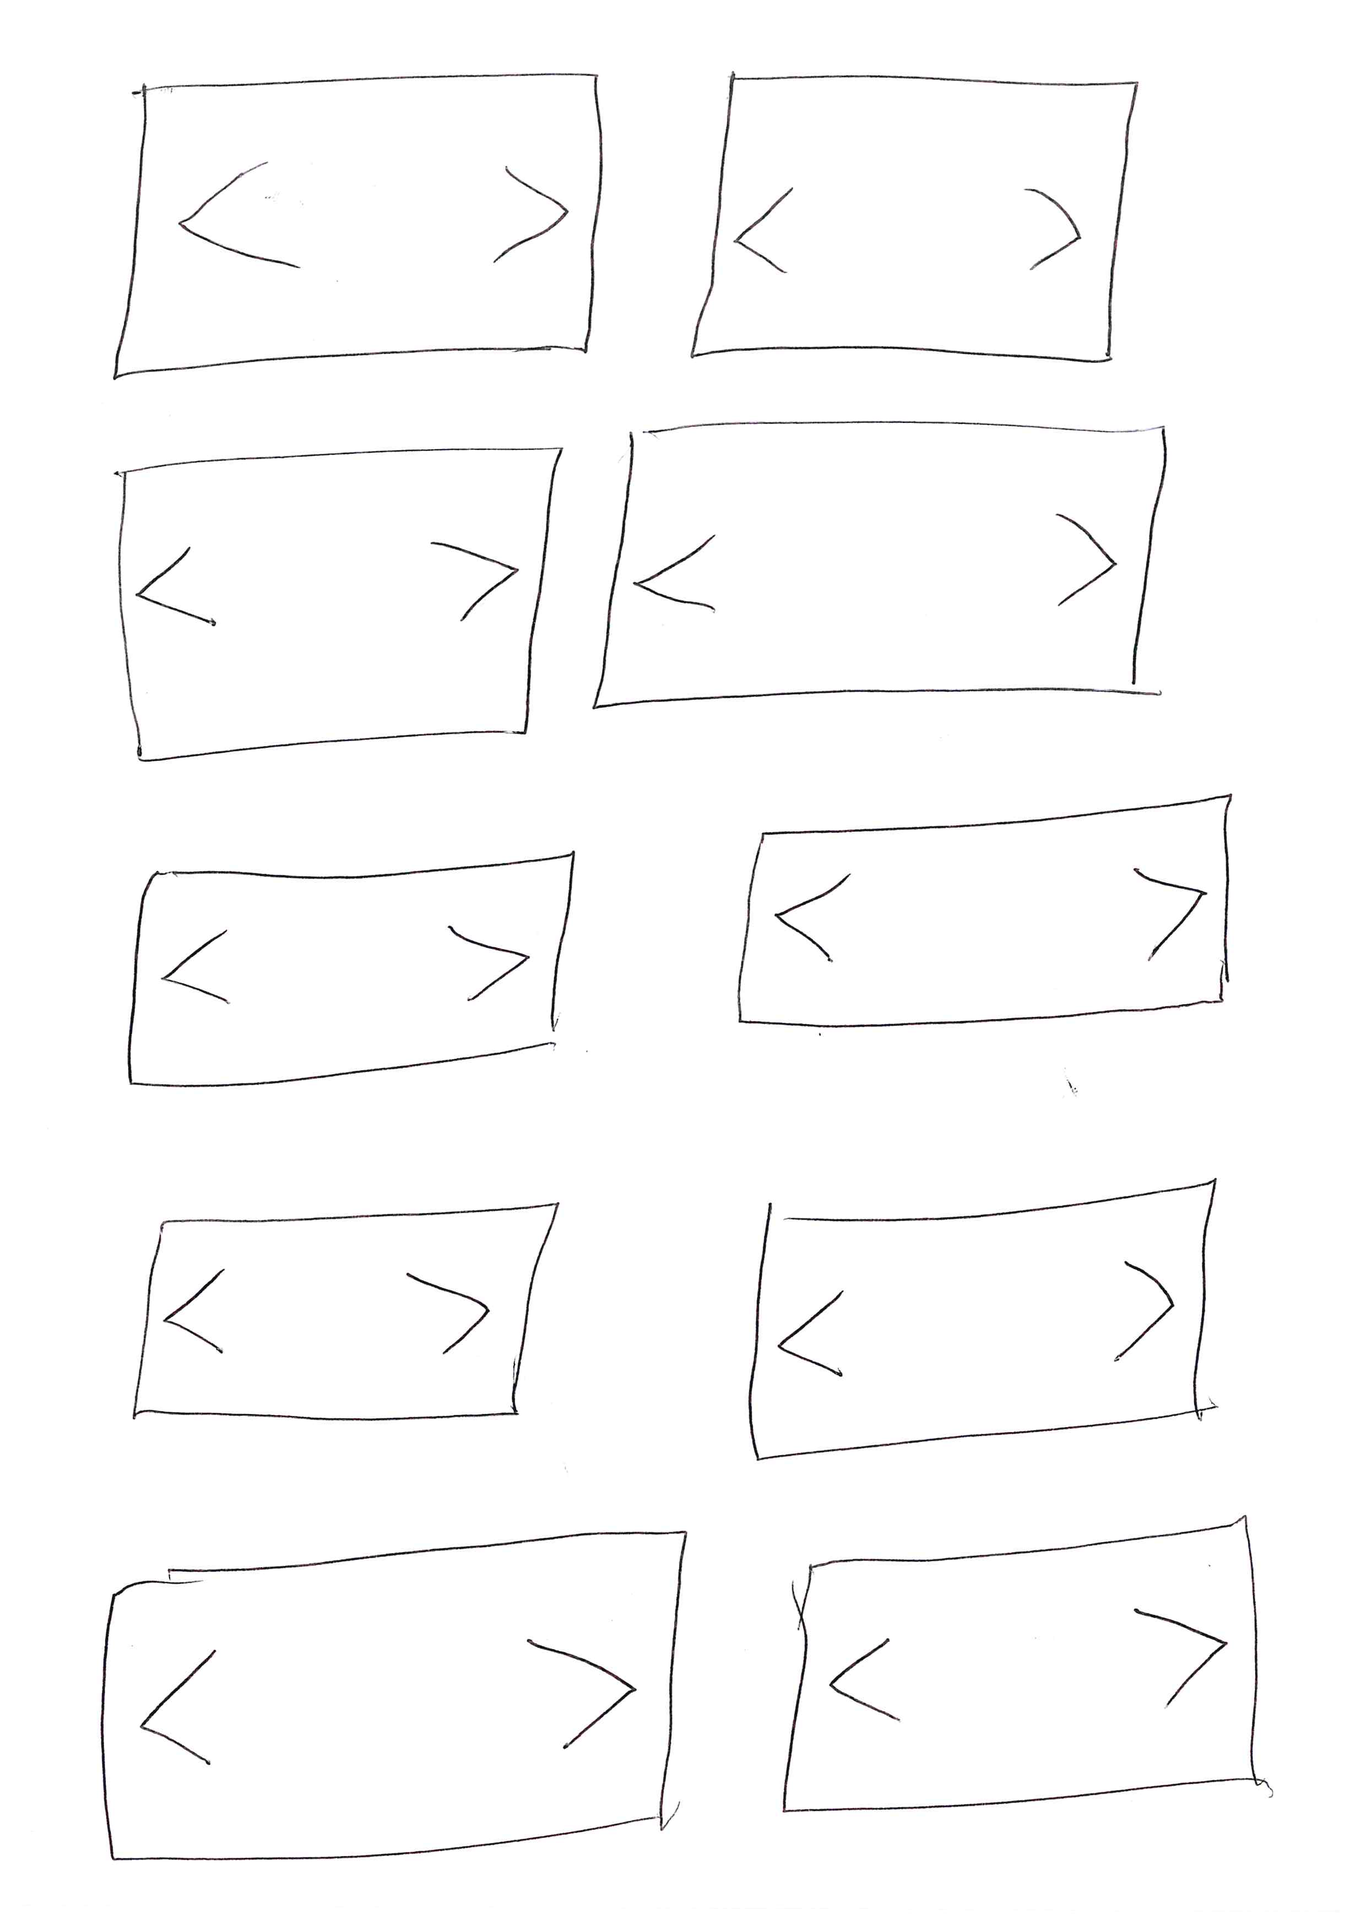Carousel: (98, 1527, 687, 1866), (588, 415, 1169, 713), (101, 67, 614, 381), (112, 442, 568, 767), (778, 1518, 1265, 1816), (747, 1172, 1220, 1464), (684, 72, 1141, 364), (730, 793, 1234, 1031), (123, 846, 580, 1093), (126, 1198, 560, 1424)
